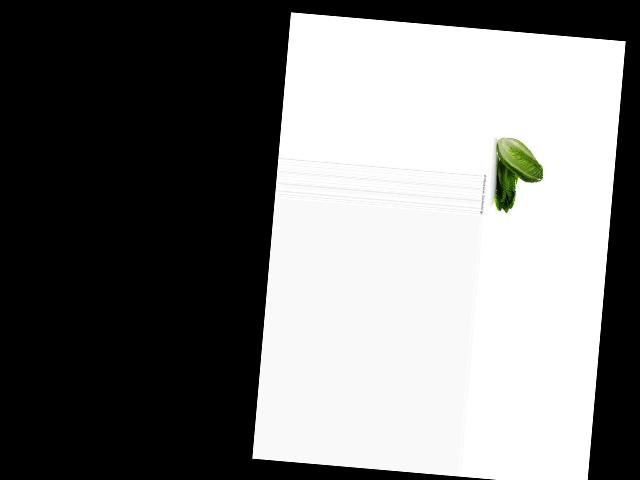lettuce: (486, 159, 524, 213)
